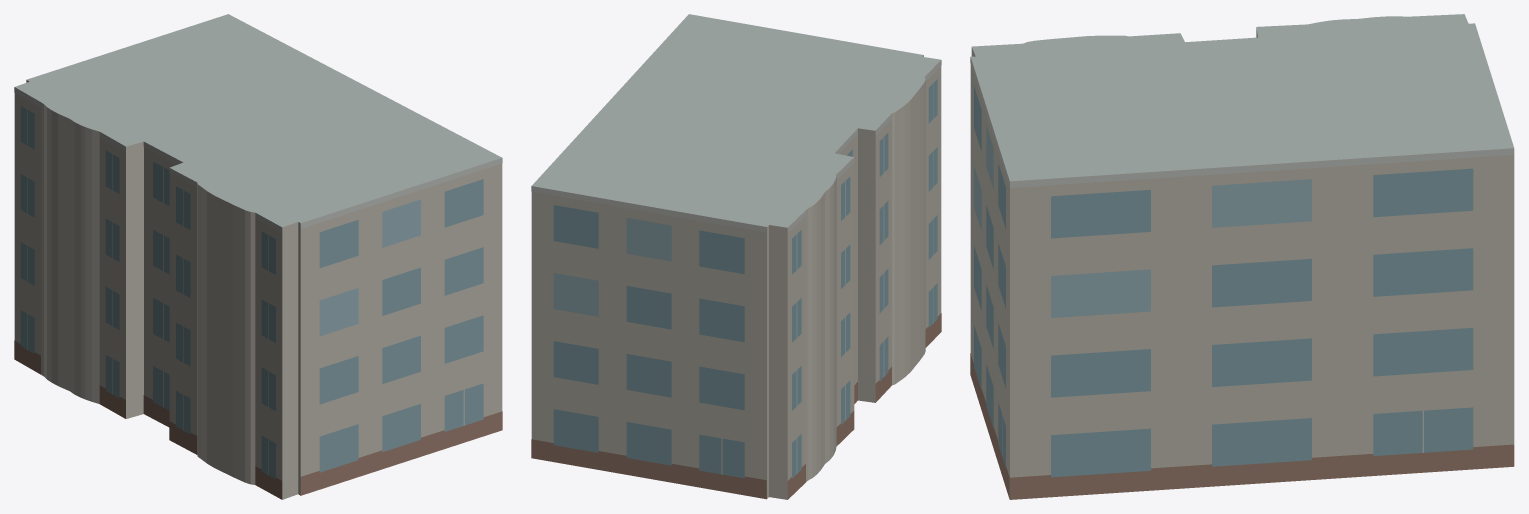
Rendered from survey-upis-32959330.glb.
3 renders of one model, left to right at view 1: azimuth 30°, elevation 25°; view 2: azimuth 150°, elevation 25°; view 3: azimuth 270°, elevation 25°, orthographic. The views are drawn at different scales.
Visible parts, largest first — view 1: survey-upis-32959330.tmp; view 2: survey-upis-32959330.tmp; view 3: survey-upis-32959330.tmp.
Boxes of the visible parts, <box> form: survey-upis-32959330.tmp: <box>14,14,502,499</box>; survey-upis-32959330.tmp: <box>531,14,941,499</box>; survey-upis-32959330.tmp: <box>970,14,1514,499</box>.
Bounding box in the file's own units: 13.25 × 11.75 × 18.19.
